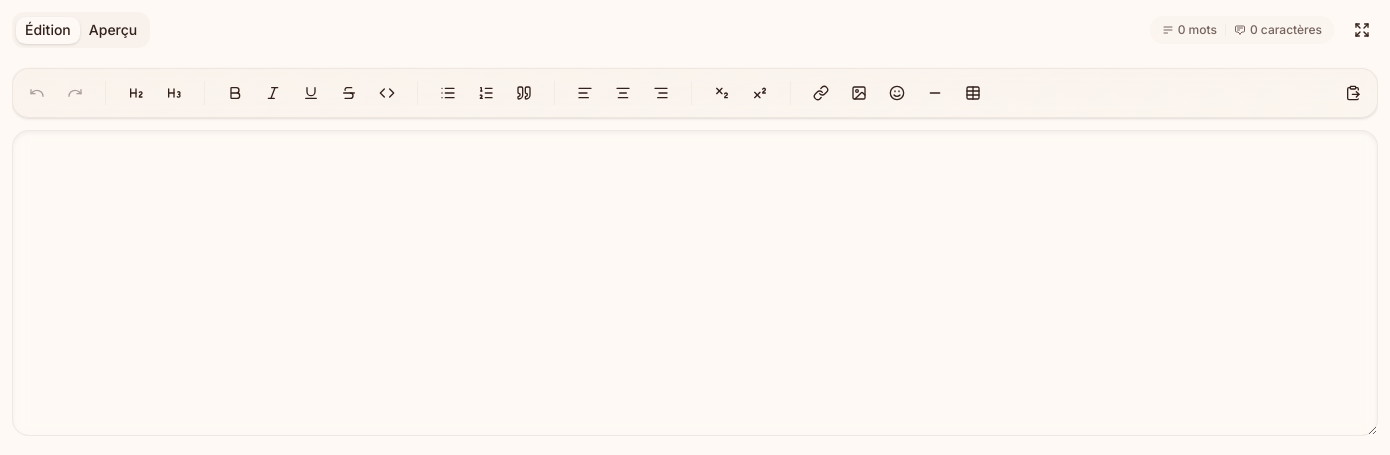
it: ArticleContentEditor › inserts a link via window.prompt
The image size is (1390, 455).
Type "voir ici" into the text box. click: x=695, y=283
box: x1=12 y1=130 x2=1378 y2=436
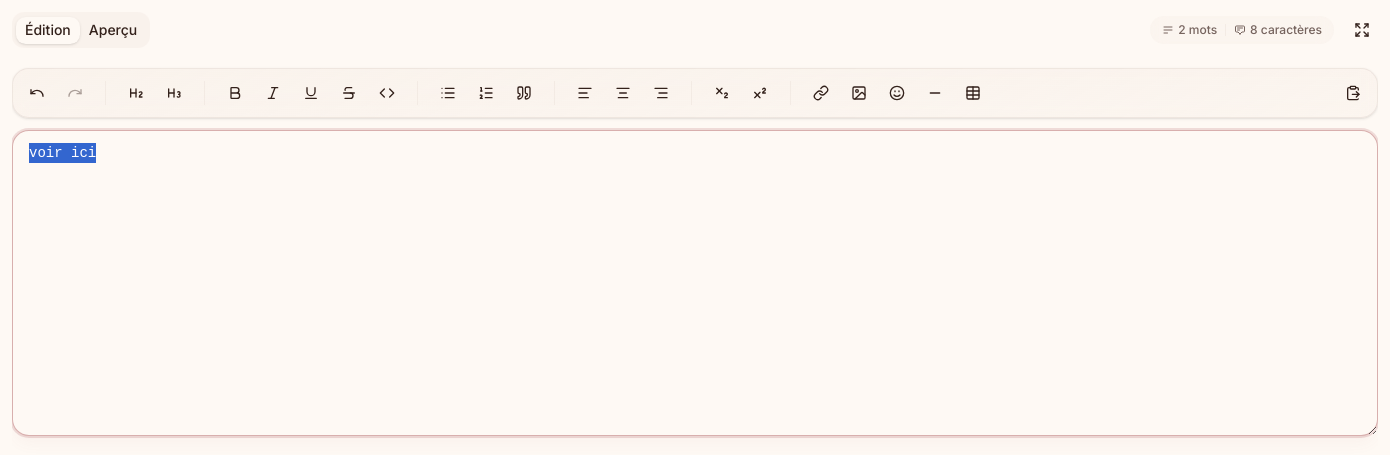
Click the button titled "Lien". click: x=821, y=93
box: x1=805 y1=77 x2=837 y2=109
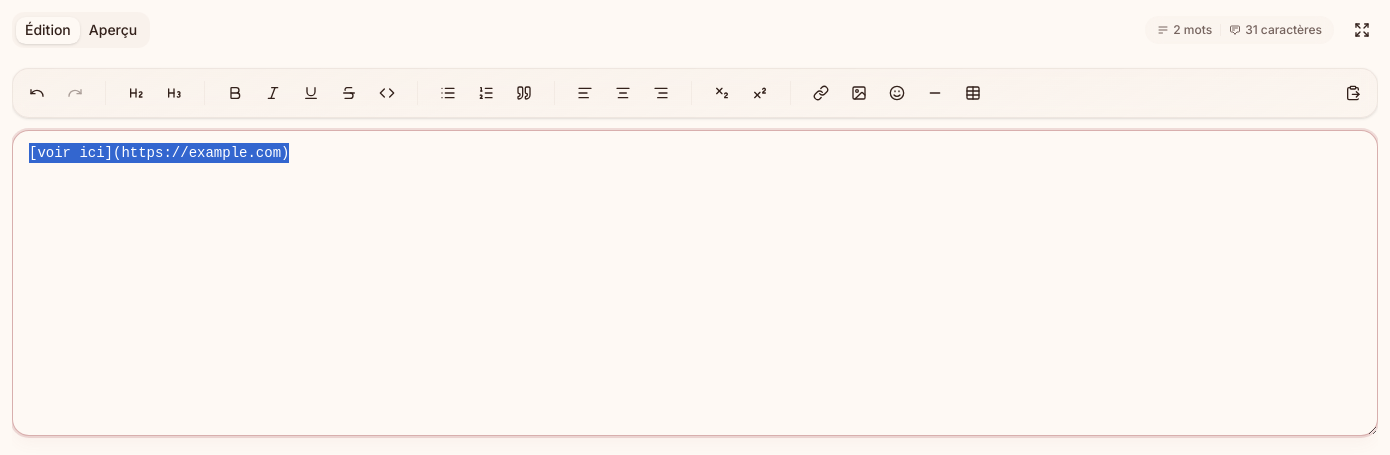
Expected: the text box holds "[voir ici](https://example.com)"
